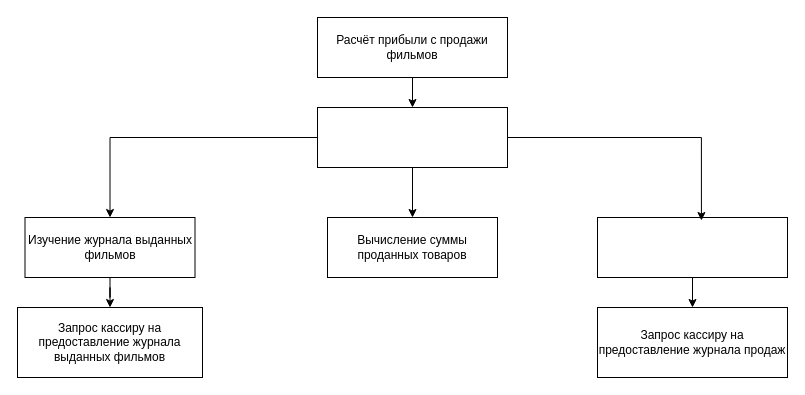
Some shapes in this 805 by 395 pixel diagram are drawn without their labels. Here are the shapes that lost their labels. From the top down, the box of each, then its label:
(316, 106, 508, 168): Проверка на соответствие журнала продаж и журнала выданных фильмов
(596, 216, 788, 278): Изучение журнала продаж
